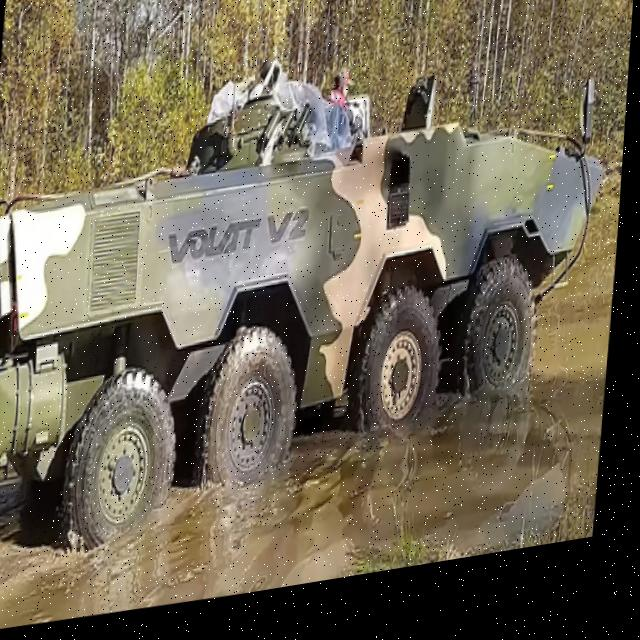MIL_APC: (0, 62, 615, 545)
